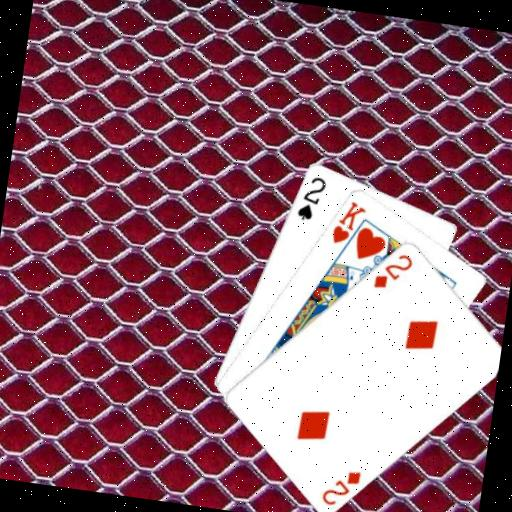2D: (370, 247, 416, 294), (317, 463, 363, 510)
2S: (293, 171, 329, 225)
KH: (328, 196, 369, 249)
